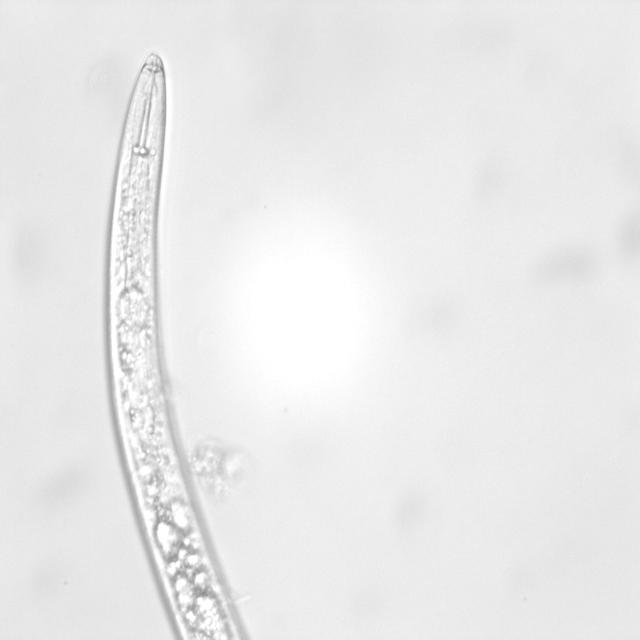Helicotylenchus: (104, 46, 261, 640)
